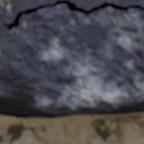brick: (0, 0, 143, 118), (70, 0, 143, 9)
crack: (2, 0, 143, 33)
